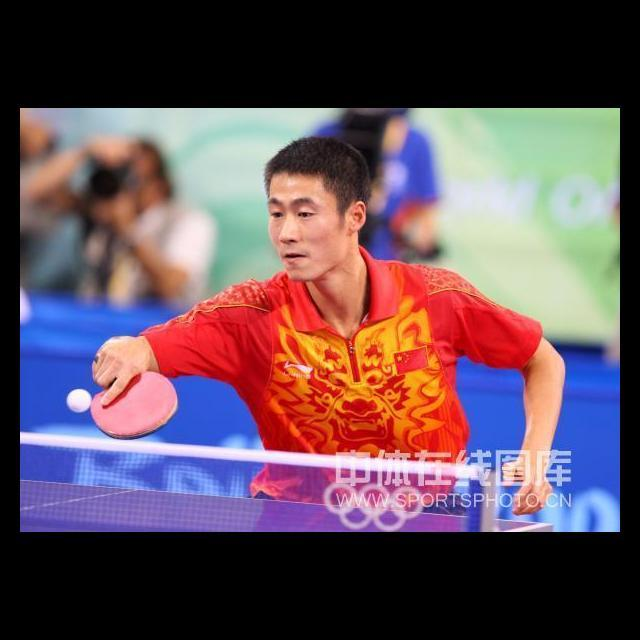ping-pong-ball: (68, 388, 90, 413)
